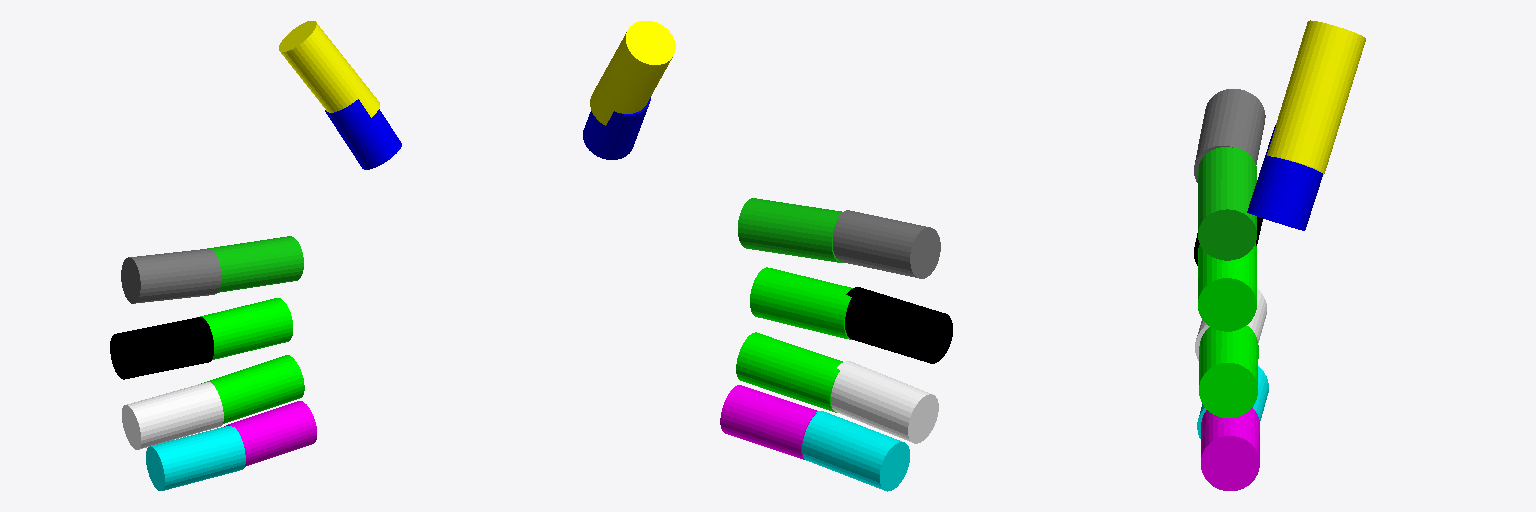
The robot description file, URDF, robot "ergoCub":
<robot name="ergoCub">

  <link name="root_link">
    <inertial>
      <origin xyz="0.0 0.0 0.0" rpy="0.0 0.0 0.0"/>
      <mass value="1.0"/>
      <inertia ixx="0.01" ixy="-1.66069e-05" ixz="2.22683e-05" iyy="0.01" iyz="6.67926e-06" izz="0.01"/>
    </inertial>
  </link>

  <joint name="base_link_fixed_joint" type="revolute">
     <origin xyz="0 0 0.1" rpy="3.14 -1.57 0"/>
     <axis xyz="0 0 0"/>
     <parent link="root_link"/>
     <child link="l_hand_palm"/>
    <limit effort="50000" lower="0.0" upper="0.0" velocity="0.0"/>
  </joint>

  <link name="l_hand_palm">
    <inertial>
      <origin xyz="-0.0034640807528164147 0.0026595088100320463 -0.059159070432414085" rpy="0.12008501986317731 0.2297882840735942 1.8533146530335884"/>
      <mass value="0.193024"/>
      <inertia ixx="0.01" ixy="-1.66069e-05" ixz="2.22683e-05" iyy="0.01" iyz="6.67926e-06" izz="0.01"/>
    </inertial>
    <visual>
      <origin xyz="0.025778568952600042 -0.2002603076921135 0.22682584341786538" rpy="0.12008501986317731 0.2297882840735942 1.8533146530335884"/>
      <geometry>
        <mesh filename="package://ergoCub/meshes/simmechanics/sim_ecub_l_hand_palm_prt.stl" scale="0.001 0.001 0.001"/>
      </geometry>
      <material name="cyan">
        <color rgba="0 1 1 1"/>
      </material>
    </visual>
    <collision>
      <origin xyz="0.025778568952600042 -0.2002603076921135 0.22682584341786538" rpy="0.12008501986317731 0.2297882840735942 1.8533146530335884"/>
      <geometry>
        <mesh filename="package://ergoCub/meshes/simmechanics/sim_ecub_l_hand_palm_prt.stl" scale="0.001 0.001 0.001"/>
      </geometry>
    </collision>
  </link>

  <link name="l_hand_ring_1">
    <inertial>
      <origin xyz="0.00014280339169172197 0.0036426704125520626 -0.014331537616628587" rpy="0.03293841693450851 0.2510502277214382 1.8063707999903837"/>
      <mass value="0.00345703"/>
      <inertia ixx="0.01" ixy="-2.00998e-09" ixz="5.85772e-08" iyy="0.01" iyz="-2.27607e-09" izz="0.01"/>
    </inertial>
    <visual>
      <origin xyz="-0.0000279311  0.0031445046 -0.0150009750" rpy="3.1415367550 3.1413001585 1.5928014358"/>
      <geometry>
        <cylinder radius="0.0085580208" length="0.0365030430"/>
      </geometry>
      <material name="green">
        <color rgba="0 1 0 1"/>
      </material>
    </visual>
    <collision>
      <origin xyz="-0.0000279311  0.0031445046 -0.0150009750" rpy="3.1415367550 3.1413001585 1.5928014358"/>
      <geometry>
        <cylinder radius="0.0085580208" length="0.0365030430"/>
      </geometry>
    </collision>
  </link>
  <joint name="l_ring_prox" type="revolute">
    <origin xyz="-0.015417865717831492 -0.0018501027039076468 -0.09790043518642755" rpy="0 0.08726650590388031 0.026179823381597748"/>
    <axis xyz="-1.0000005135466863 -1.979209419246744e-07 -4.060128685548503e-07"/>
    <parent link="l_hand_palm"/>
    <child link="l_hand_ring_1"/>
    <limit effort="50000" lower="0.0" upper="2.792526803190927" velocity="120.0"/>
    <dynamics damping="2.0" friction="0.0"/>
  </joint>
  <link name="l_hand_ring_2">
    <inertial>
      <origin xyz="5.158639613811293e-05 0.0015996223776358065 -0.003590597740307344" rpy="0.03293841693450851 0.2510502277214382 1.8063707999903837"/>
      <mass value="0.00912524"/>
      <inertia ixx="0.01" ixy="4.76252e-08" ixz="9.4436e-07" iyy="0.01" iyz="-1.39679e-07" izz="0.01"/>
    </inertial>
    <visual>
      <origin xyz="0.0000204078  0.0041121984 -0.018836578" rpy="3.1362256357 -3.0480124411  1.5544773438"/>
      <geometry>
        <cylinder radius="0.0087929452" length="0.0341915186"/>
      </geometry>
      <material name="white">
        <color rgba="1 1 1 1"/>
      </material>
    </visual>
    <collision>
      <origin xyz="0.0000204078  0.0041121984 -0.018836578" rpy="3.1362256357 -3.0480124411  1.5544773438"/>
      <geometry>
        <cylinder radius="0.0087929452" length="0.0341915186"/>
      </geometry>
    </collision>
  </link>
  <joint name="l_ring_dist" type="revolute">
    <origin xyz="0 -0.0014999206015293143 -0.03000056411131863" rpy="0 0 0"/>
    <axis xyz="-1.0000005135466863 -1.979209419246744e-07 -4.060128685548503e-07"/>
    <parent link="l_hand_ring_1"/>
    <child link="l_hand_ring_2"/>
    <limit effort="50000" lower="0.0" upper="2.792526803190927" velocity="120.0"/>
    <dynamics damping="2.0" friction="0.0"/>
  </joint>

  <link name="l_hand_index_1">
    <inertial>
      <origin xyz="0.008775274459774315 0.004269452512144861 -0.017750570367235263" rpy="0.20567444929844825 0.20467244819585653 1.8717733650332327"/>
      <mass value="0.0183891"/>
      <inertia ixx="0.01" ixy="9.87525e-08" ixz="6.73219e-08" iyy="0.01" iyz="-4.87291e-07" izz="0.01"/>
    </inertial>
    <visual>
      <origin xyz="0.02904319388181435 -0.19871027157305793 0.2940034586718241" rpy="0.20567444929844825 0.20467244819585653 1.8717733650332327"/>
      <geometry>
        <mesh filename="package://ergoCub/meshes/simmechanics/sim_ecub_l_hand_index_1_prt.stl" scale="0.001 0.001 0.001"/>
      </geometry>
      <material name="dblue">
        <color rgba="0 0 0.8 1"/>
      </material>
    </visual>
    <collision>
      <origin xyz="0.02904319388181435 -0.19871027157305793 0.2940034586718241" rpy="0.20567444929844825 0.20467244819585653 1.8717733650332327"/>
      <geometry>
        <mesh filename="package://ergoCub/meshes/simmechanics/sim_ecub_l_hand_index_1_prt.stl" scale="0.001 0.001 0.001"/>
      </geometry>
    </collision>
  </link>
  <joint name="l_index_add" type="revolute">
    <origin xyz="0.022469969224748403 -0.001550029846802109 -0.06859012009285947" rpy="0 -0.08726657030232389 2.273729335436677e-07"/>
    <axis xyz="-3.992524267790176e-07 -0.999999978353397 -2.1441989261905547e-07"/>
    <parent link="l_hand_palm"/>
    <child link="l_hand_index_1"/>
    <limit effort="50000" lower="0.0" upper="3.14" velocity="120.0"/>
    <dynamics damping="2.0" friction="0.0"/>
  </joint>
  <link name="l_hand_index_2">
    <inertial>
      <origin xyz="0.00014299124504029564 0.003642127156679803 -0.014330898644830947" rpy="0.20567444929844825 0.20467244819585653 1.8717733650332327"/>
      <mass value="0.00345703"/>
      <inertia ixx="0.01" ixy="5.70823e-09" ixz="4.71528e-08" iyy="0.01" iyz="-4.56705e-08" izz="0.01"/>
    </inertial>
    <visual>
      <origin xyz="-0.0000078215  0.0031390117 -0.0149995248" rpy="-3.1415757203 -3.1415687847  1.5812888852"/>
      <geometry>
        <cylinder radius="0.0085615575" length="0.0365001169"/>
      </geometry>
      <material name="dgreen">
        <color rgba="0.1 0.8 0.1 1"/>
      </material>
    </visual>
    <collision>
      <origin xyz="-0.0000078215  0.0031390117 -0.0149995248" rpy="-3.1415757203 -3.1415687847  1.5812888852"/>
      <geometry>
        <cylinder radius="0.0085615575" length="0.0365001169"/>
      </geometry>
    </collision>
  </link>
  <joint name="l_index_prox" type="revolute">
    <origin xyz="0.009192549743036973 -1.6307953948357934e-07 -0.030713623202012375" rpy="0 0 0"/>
    <axis xyz="-0.9999995872902697 2.6872936789712476e-07 -4.668360350512657e-07"/>
    <parent link="l_hand_index_1"/>
    <child link="l_hand_index_2"/>
    <limit effort="50000" lower="0.0" upper="3.14" velocity="120.0"/>
    <dynamics damping="2.0" friction="0.0"/>
  </joint>
  <link name="l_hand_index_3">
    <inertial>
      <origin xyz="5.9109449817802695e-05 0.0016001193440265127 -0.003591033160222079" rpy="0.20567444929844825 0.20467244819585653 1.8717733650332327"/>
      <mass value="0.00912524"/>
      <inertia ixx="0.01" ixy="1.8521e-07" ixz="7.98775e-07" iyy="0.01" iyz="-6.45784e-07" izz="0.01"/>
    </inertial>
    <visual>
      <origin xyz="0.0000236028  0.0040925241 -0.0193322535" rpy="3.1355775648 -3.0457488706  1.5686090341"/>
      <geometry>
        <cylinder radius="0.0087822058" length="0.0333598801"/>
      </geometry>
      <material name="gray">
        <color rgba="0.5 0.5 0.5 1"/>
      </material>
    </visual>
    <collision>
      <origin xyz="0.0000236028  0.0040925241 -0.0193322535" rpy="3.1355775648 -3.0457488706  1.5686090341"/>
      <geometry>
        <cylinder radius="0.0087822058" length="0.0333598801"/>
      </geometry>
    </collision>
  </link>
  <joint name="l_index_dist" type="revolute">
    <origin xyz="0 -0.0015006327879180659 -0.02999922319857601" rpy="0 0 0"/>
    <axis xyz="-0.9999995872902697 2.6872936789712476e-07 -4.668360350512657e-07"/>
    <parent link="l_hand_index_2"/>
    <child link="l_hand_index_3"/>
    <limit effort="50000" lower="0.0" upper="3.14" velocity="120.0"/>
    <dynamics damping="2.0" friction="0.0"/>
  </joint>

  <link name="l_hand_middle_1">
    <inertial>
      <origin xyz="0.0001426788707961056 0.003642823793353789 -0.014331376909090254" rpy="0.12008501986317731 0.2297882840735942 1.8533146530335884"/>
      <mass value="0.00345703"/>
      <inertia ixx="0.01" ixy="2.33291e-09" ixz="5.3584e-08" iyy="0.01" iyz="-2.42237e-08" izz="0.01"/>
    </inertial>
    <visual>
      <origin xyz="0.0000291271 0.0031435022 -0.0150003868" rpy="3.1415636225 3.1414814439 1.5406158478"/>
      <geometry>
        <cylinder radius="0.0085581756" length="0.0365008728"/>
      </geometry>
      <material name="green">
        <color rgba="0 1 0 1"/>
      </material>
    </visual>
    <collision>
      <origin xyz="0.0000291271 0.0031435022 -0.0150003868" rpy="3.1415636225 3.1414814439 1.5406158478"/>
      <geometry>
        <cylinder radius="0.0085581756" length="0.0365008728"/>
      </geometry>
    </collision>
  </link>
  <joint name="l_middle_prox" type="revolute">
    <origin xyz="0.009600214668670098 -0.0015008571910165858 -0.10299987654370085" rpy="0 0 0"/>
    <axis xyz="-0.9999998262416893 -3.56920377206707e-07 -2.721582535170075e-07"/>
    <parent link="l_hand_palm"/>
    <child link="l_hand_middle_1"/>
    <limit effort="50000" lower="0.0" upper="2.792526803190927" velocity="120.0"/>
    <dynamics damping="2.0" friction="0.0"/>
  </joint>
  <link name="l_hand_middle_2">
    <inertial>
      <origin xyz="5.172124499746439e-05 0.0015996341583800477 -0.003590479003163727" rpy="0.11954926259843997 0.22799029281164018 1.8531928341958708"/>
      <mass value="0.00912524"/>
      <inertia ixx="0.01" ixy="1.239e-07" ixz="0.01" iyy="3.41731e-06" iyz="-3.99253e-07" izz="0.01"/>
    </inertial>
    <visual>
      <origin xyz="0.0000554539  0.0040854617 -0.0184201316" rpy="3.1345614318 -3.0525048752  1.5630050764"/>
      <geometry>
        <cylinder radius="0.0087759319" length="0.0351230936"/>
      </geometry>
      <material name="black">
        <color rgba="0 0 0 1"/>
      </material>
    </visual>
    <collision>
      <origin xyz="0.0000554539  0.0040854617 -0.0184201316" rpy="3.1345614318 -3.0525048752  1.5630050764"/>
      <geometry>
        <cylinder radius="0.0087759319" length="0.0351230936"/>
      </geometry>
    </collision>
  </link>
  <joint name="l_middle_dist" type="revolute">
    <origin xyz="-1.3550151000546462e-07 -0.0014995238274964628 -0.03000020325318492" rpy="-0.0018721728628663644 0 2.576685250299645e-07"/>
    <axis xyz="-0.9999998262417538 -9.878318872787173e-08 -2.5044776373606137e-07"/>
    <parent link="l_hand_middle_1"/>
    <child link="l_hand_middle_2"/>
    <limit effort="50000" lower="0.0" upper="2.792526803190927" velocity="120.0"/>
    <dynamics damping="2.0" friction="0.0"/>
  </joint>

  <link name="l_hand_thumb_1">
    <inertial>
      <origin xyz="0.020687992873158395 0.003255220723100055 -0.008896940067464165" rpy="0.3407559733652857 0.16157290397540883 2.2910827715586013"/>
      <mass value="0.0346205"/>
      <inertia ixx="0.01" ixy="-2.06718e-06" ixz="-4.99381e-07" iyy="0.01" iyz="-2.5225e-06" izz="0.01"/>
    </inertial>
    <visual>
      <origin xyz="0.1322803583541615 -0.15858996430408137 0.2541102113185044" rpy="0.3407559733652857 0.16157290397540883 2.2910827715586013"/>
      <geometry>
        <mesh filename="package://ergoCub/meshes/simmechanics/sim_ecub_l_hand_thumb_1_prt.stl" scale="0.001 0.001 0.001"/>
      </geometry>
      <material name="red">
        <color rgba="1 0 0 1"/>
      </material>
    </visual>
    <collision>
      <origin xyz="0.1322803583541615 -0.15858996430408137 0.2541102113185044" rpy="0.3407559733652857 0.16157290397540883 2.2910827715586013"/>
      <geometry>
        <mesh filename="package://ergoCub/meshes/simmechanics/sim_ecub_l_hand_thumb_1_prt.stl" scale="0.001 0.001 0.001"/>
      </geometry>
    </collision>
  </link>
  <joint name="l_thumb_add" type="revolute">
    <origin xyz="0.023374937816838005 -0.003000071417791822 -0.034523522800941175" rpy="0.08853717963934662 -0.2091803673917457 -0.40396882311318977"/>
    <axis xyz="-9.579078130705909e-08 6.90101362721407e-08 -1.0000003967894144"/>
    <parent link="l_hand_palm"/>
    <child link="l_hand_thumb_1"/>
    <limit effort="50000" lower="0.0" upper="3.14" velocity="120.0"/>
    <dynamics damping="2.0" friction="0.0"/>
  </joint>
  <link name="l_hand_thumb_2">
    <inertial>
      <origin xyz="0.009791991208288692 0.004339703993751859 0.0002629570752250565" rpy="1.836586646685542 0.9949596465626955 -2.452146247302006"/>
      <mass value="0.00246082"/>
      <inertia ixx="0.01" ixy="-1.15428e-08" ixz="-1.55154e-08" iyy="0.01" iyz="-2.43359e-08" izz="0.01"/>
    </inertial>
    <visual>
      <origin xyz="0.0100063041 0.0031258838 0.0000008132" rpy="2.1627274142 -1.5707773228  0.9788650169"/>
      <geometry>
        <cylinder radius="0.0088135285" length="0.0264870975"/>
      </geometry>
      <material name="blue">
        <color rgba="0 0 1 1"/>
      </material>
    </visual>
    <collision>
      <origin xyz="0.0100063041 0.0031258838 0.0000008132" rpy="2.1627274142 -1.5707773228  0.9788650169"/>
      <geometry>
        <cylinder radius="0.0088135285" length="0.0264870975"/>
      </geometry>
    </collision>
  </link>
  <joint name="l_thumb_prox" type="revolute">
    <origin xyz="0.03454190438141733 0.0031447987794122334 -0.026071809138455138" rpy="1.3486854426081958 0.6514100961972398 1.2371890149379312e-06"/>
    <axis xyz="6.65068723482154e-07 -2.7824760159833595e-07 -1.0000002266902146"/>
    <parent link="l_hand_thumb_1"/>
    <child link="l_hand_thumb_2"/>
    <limit effort="50000" lower="0.0" upper="2.792526803190927" velocity="120.0"/>
    <dynamics damping="2.0" friction="0.0"/>
  </joint>
  <link name="l_hand_thumb_3">
    <inertial>
      <origin xyz="0.006464657686845246 0.001884491656128695 1.5530289565829358e-05" rpy="1.836586646685542 0.9949596465626955 -2.452146247302006"/>
      <mass value="0.00811336"/>
      <inertia ixx="0.01" ixy="-6.71818e-07" ixz="-3.37336e-07" iyy="0.01" iyz="-6.24005e-07" izz="0.01"/>
    </inertial>
    <visual>
      <origin xyz="0.0144023800 0.0044263213 0.0000680808" rpy="0.0952461403 -1.5821261154  2.9569093695"/>
      <geometry>
        <cylinder radius="0.0088084666" length="0.0410904154"/>
      </geometry>
      <material name="yellow">
        <color rgba="1 1 0 1"/>
      </material>
    </visual>
    <collision>
      <origin xyz="0.0144023800 0.0044263213 0.0000680808" rpy="0.0952461403 -1.5821261154  2.9569093695"/>
      <geometry>
        <cylinder radius="0.0088084666" length="0.0410904154"/>
      </geometry>
    </collision>
  </link>
  <joint name="l_thumb_dist" type="revolute">
    <origin xyz="0.01999951842714734 -0.0014995220956423305 4.0850220001109605e-07" rpy="0 0 0"/>
    <axis xyz="6.65068723482154e-07 -2.7824760159833595e-07 -1.0000002266902146"/>
    <parent link="l_hand_thumb_2"/>
    <child link="l_hand_thumb_3"/>
    <limit effort="50000" lower="0.0" upper="2.792526803190927" velocity="120.0"/>
    <dynamics damping="2.0" friction="0.0"/>
  </joint>

  <link name="l_hand_pinkie_1">
    <inertial>
      <origin xyz="0.00012075789444785517 0.003704897193364143 -0.011966220252340787" rpy="0.03293841693450851 0.2510502277214382 1.8063707999903837"/>
      <mass value="0.00283627"/>
      <inertia ixx="0.01" ixy="-2.91649e-09" ixz="3.31954e-08" iyy="0.01" iyz="-2.28393e-09" izz="0.01"/>
    </inertial>
    <visual>
      <origin xyz="-0.0000000676  0.0031547159 -0.0124993509" rpy="-3.1415424192 -3.1412348375  1.5715464061"/>
      <geometry>
        <cylinder radius="0.0085493058" length="0.0315026355"/>
      </geometry>
      <material name="pink">
        <color rgba="1 0 1 1"/>
      </material>
    </visual>
    <collision>
      <origin xyz="-0.0000000676  0.0031547159 -0.0124993509" rpy="-3.1415424192 -3.1412348375  1.5715464061"/>
      <geometry>
        <cylinder radius="0.0085493058" length="0.0315026355"/>
      </geometry>
    </collision>
  </link>
  <joint name="l_pinkie_prox" type="revolute">
    <origin xyz="-0.03598224264195511 -0.002388684875026248 -0.09208535104881393" rpy="0 0.08726650590388031 0.026179823381597748"/>
    <axis xyz="-1.0000005135466863 -1.979209419246744e-07 -4.060128685548503e-07"/>
    <parent link="l_hand_palm"/>
    <child link="l_hand_pinkie_1"/>
    <limit effort="50000" lower="0.0" upper="2.792526803190927" velocity="120.0"/>
    <dynamics damping="2.0" friction="0.0"/>
  </joint>
  <link name="l_hand_pinkie_2">
    <inertial>
      <origin xyz="1.712559800553376e-05 0.0017852152950040279 -0.005612274232820069" rpy="0.03294759939428343 0.25108473598814396 1.806373605758749"/>
      <mass value="0.00857923"/>
      <inertia ixx="0.01" ixy="3.5901e-08" ixz="7.27944e-07" iyy="0.01" iyz="-1.07962e-07" izz="0.01"/>
    </inertial>
    <visual>
      <origin xyz="-0.0000106925  0.0040559619 -0.0193145997" rpy="-3.1319979999 -3.0462281202  1.5723107493"/>
      <geometry>
        <cylinder radius="0.0087596347" length="0.0333806682"/>
      </geometry>
      <material name="cyan">
        <color rgba="0 1 1 1"/>
      </material>
    </visual>
    <collision>
      <origin xyz="-0.0000106925  0.0040559619 -0.0193145997" rpy="-3.1319979999 -3.0462281202  1.5723107493"/>
      <geometry>
        <cylinder radius="0.0087596347" length="0.0333806682"/>
      </geometry>
    </collision>
  </link>
  <joint name="l_pinkie_dist" type="revolute">
    <origin xyz="0 -0.0014997508602252463 -0.025000232410908152" rpy="3.5631170772755025e-05 -5.94559868174076e-07 -5.245059638522189e-07"/>
    <axis xyz="-1.0000005135465095 -7.224204564889453e-07 1.88573045758339e-07"/>
    <parent link="l_hand_pinkie_1"/>
    <child link="l_hand_pinkie_2"/>
    <limit effort="50000" lower="0.0" upper="2.792526803190927" velocity="120.0"/>
    <dynamics damping="2.0" friction="0.0"/>
  </joint>

   <gazebo>
   <plugin name="controlboard_left_hand" filename="libgazebo_yarp_controlboard.so">
     <yarpConfigurationFile>model://ergoCub/conf/gazebo_ergocub_left_hand.ini</yarpConfigurationFile>
   </plugin>
  </gazebo>

  <gazebo>
    <plugin name="robotinterface" filename="libgazebo_yarp_robotinterface.so">
      <yarpRobotInterfaceConfigurationFile>model://ergoCub/conf/ergocub_left_hand.xml</yarpRobotInterfaceConfigurationFile>
    </plugin>
  </gazebo>

</robot>

--- Render facts (derived) ---
3 views of the same robot in one strip: view 1: azimuth 30°, elevation 25°; view 2: azimuth 150°, elevation 25°; view 3: azimuth 270°, elevation 25° (orthographic).
Robot: ergoCub — 14 links, 13 joints (13 revolute); root link root_link; default pose: all joints at 0.
Links seen in each view (by area): view 1: l_hand_middle_2, l_hand_thumb_3, l_hand_ring_2, l_hand_index_3, l_hand_pinkie_2, l_hand_ring_1, l_hand_index_2, l_hand_middle_1, l_hand_pinkie_1, l_hand_thumb_2; view 2: l_hand_ring_2, l_hand_middle_2, l_hand_pinkie_2, l_hand_index_3, l_hand_thumb_3, l_hand_ring_1, l_hand_middle_1, l_hand_index_2, l_hand_pinkie_1, l_hand_thumb_2; view 3: l_hand_thumb_3, l_hand_index_2, l_hand_ring_1, l_hand_middle_1, l_hand_pinkie_1, l_hand_thumb_2, l_hand_index_3, l_hand_ring_2, l_hand_pinkie_2.
Boxes of the visible links, x1,y1,x2,y2 form: l_hand_middle_2: [110, 317, 213, 379]; l_hand_thumb_3: [279, 21, 379, 117]; l_hand_ring_2: [122, 382, 223, 449]; l_hand_index_3: [121, 249, 220, 303]; l_hand_pinkie_2: [146, 426, 245, 490]; l_hand_ring_1: [201, 355, 304, 423]; l_hand_index_2: [207, 236, 303, 292]; l_hand_middle_1: [196, 298, 292, 359]; l_hand_pinkie_1: [224, 401, 316, 466]; l_hand_thumb_2: [325, 99, 401, 169]; l_hand_ring_2: [831, 361, 938, 443]; l_hand_middle_2: [845, 287, 952, 363]; l_hand_pinkie_2: [802, 411, 909, 491]; l_hand_index_3: [833, 210, 940, 278]; l_hand_thumb_3: [590, 21, 675, 125]; l_hand_ring_1: [736, 332, 842, 412]; l_hand_middle_1: [750, 267, 852, 339]; l_hand_index_2: [738, 198, 843, 262]; l_hand_pinkie_1: [720, 385, 817, 459]; l_hand_thumb_2: [583, 97, 650, 159]; l_hand_thumb_3: [1267, 20, 1365, 174]; l_hand_index_2: [1198, 147, 1256, 260]; l_hand_ring_1: [1199, 325, 1258, 417]; l_hand_middle_1: [1198, 243, 1256, 331]; l_hand_pinkie_1: [1201, 407, 1259, 490]; l_hand_thumb_2: [1247, 125, 1322, 230]; l_hand_index_3: [1194, 89, 1265, 182]; l_hand_ring_2: [1195, 288, 1266, 360]; l_hand_pinkie_2: [1197, 366, 1268, 438].
Size in the robot's own frame: 0.1294 by 0.0497 by 0.1637 metres.
0 mesh visuals loaded from 3 distinct referenced files (none loaded); not drawn: 3 (reference not matched to a file when rendering).